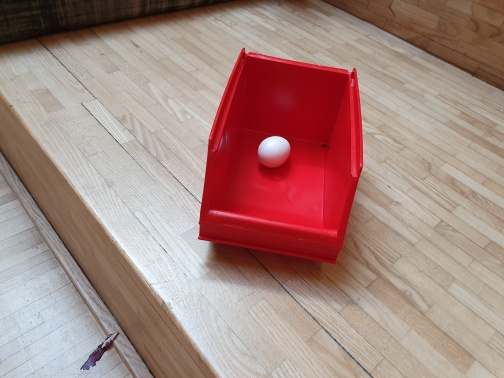egg: (257, 136, 291, 169)
tray_front: (198, 136, 364, 264)
